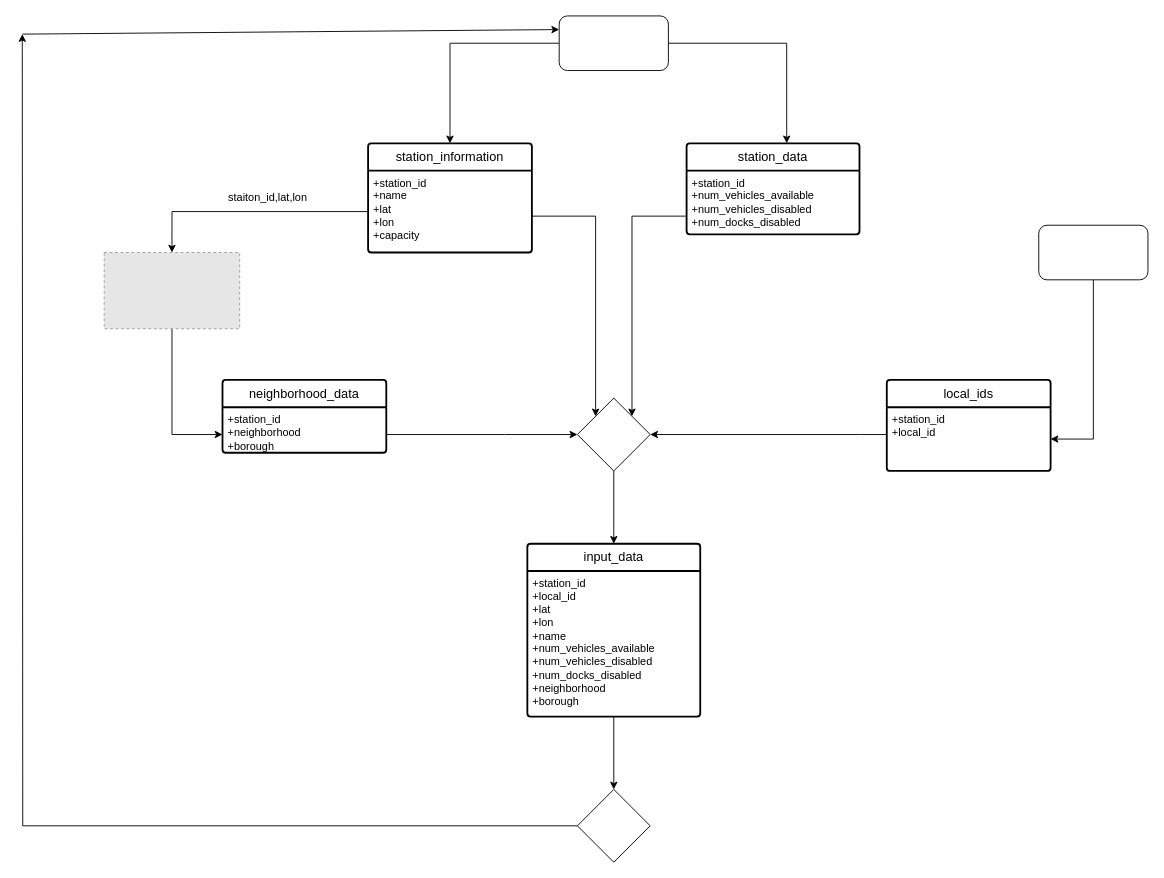
Image size: 1164x878. Some labels were removed from this diagram. Grey dashed boxes stand in for pictures. Each missing label, with the centre of its shape:
GBFS Data: pixel 613 43
Historic Data: pixel 1093 252
wait 5 seconds: pixel 613 825
